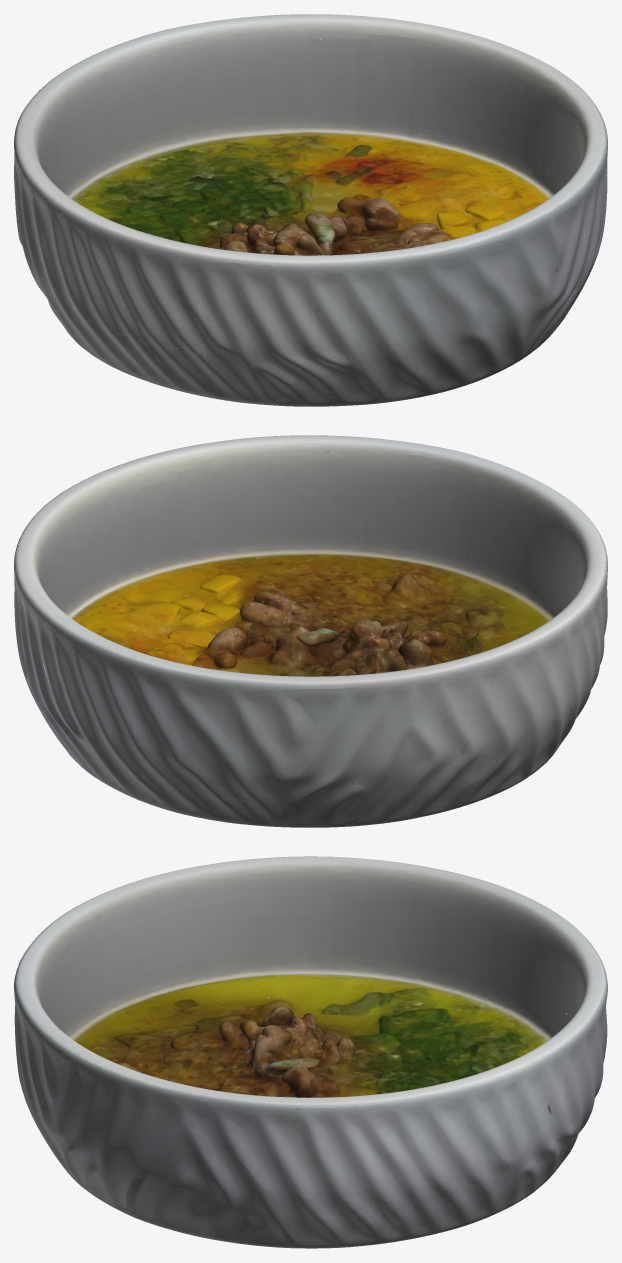
The model's file is tushonka.glb.
3 renders of one model, top to bottom at view 1: azimuth 30°, elevation 25°; view 2: azimuth 150°, elevation 25°; view 3: azimuth 270°, elevation 25°, orthographic.
Visible parts, largest first — view 1: tripo_node_d134111a-eb9c-4b1c-a083-f682c97ebafd; view 2: tripo_node_d134111a-eb9c-4b1c-a083-f682c97ebafd; view 3: tripo_node_d134111a-eb9c-4b1c-a083-f682c97ebafd.
Part boxes in pixels (left/top/right/bottom): tripo_node_d134111a-eb9c-4b1c-a083-f682c97ebafd: left=14, top=14, right=607, bottom=406; tripo_node_d134111a-eb9c-4b1c-a083-f682c97ebafd: left=14, top=435, right=607, bottom=827; tripo_node_d134111a-eb9c-4b1c-a083-f682c97ebafd: left=14, top=856, right=607, bottom=1248.
Bounding box in the file's own units: 0.9811 × 0.3044 × 0.9795.
1 material, 1 textured.
